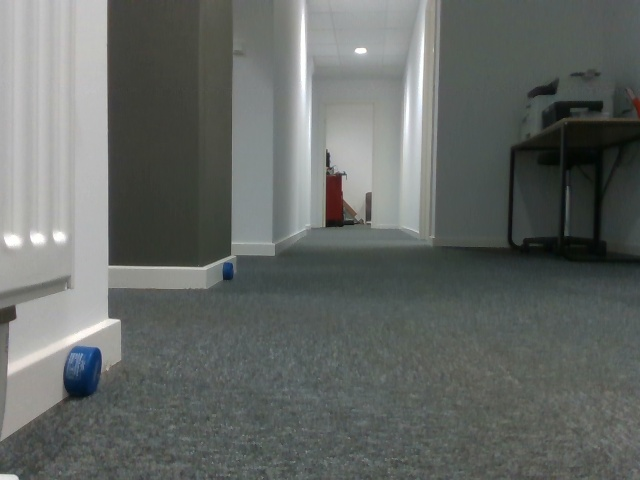alfa: (62, 344, 102, 396), (221, 260, 236, 282)
